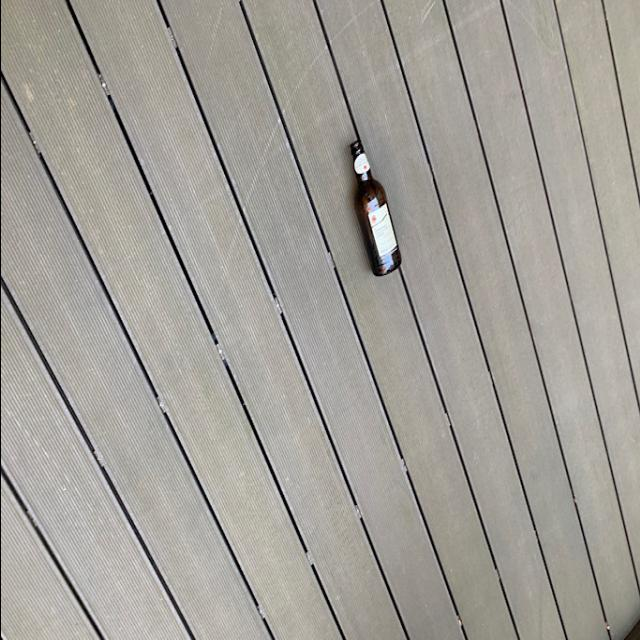Glass Bottle: (344, 135, 398, 277)
